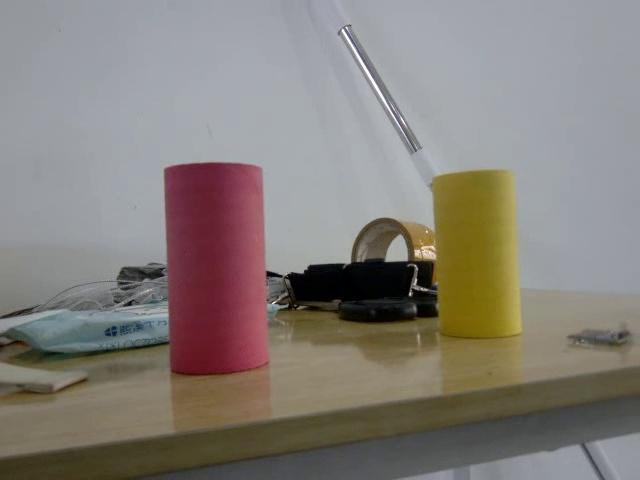red_cylinder: (163, 160, 283, 377)
yellow_cylinder: (430, 166, 527, 340)
